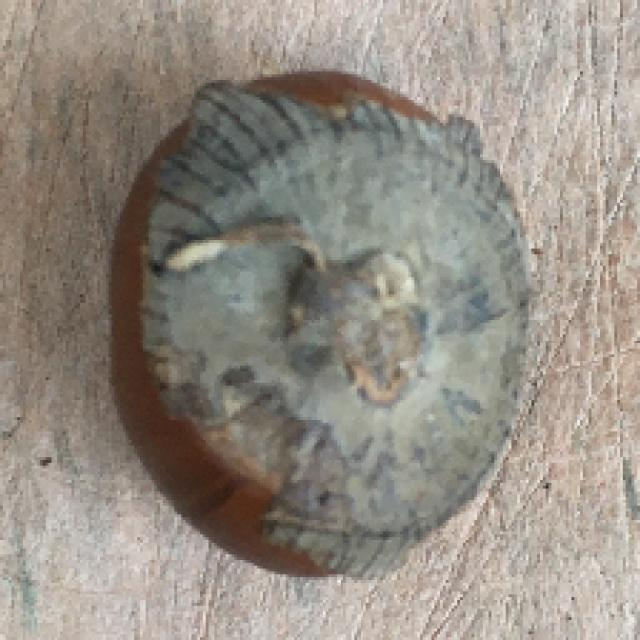damagedHazelnut: (111, 67, 532, 580)
